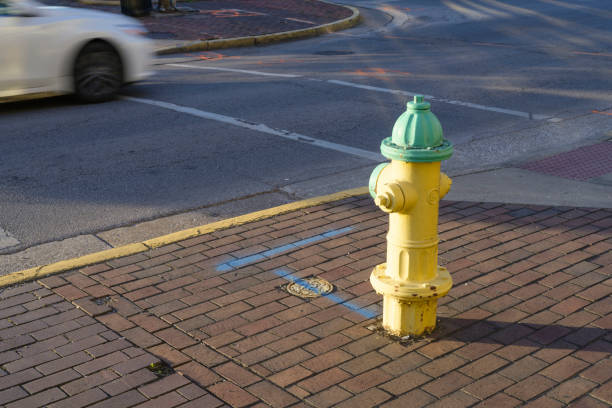firehdyrant: (365, 90, 459, 342)
